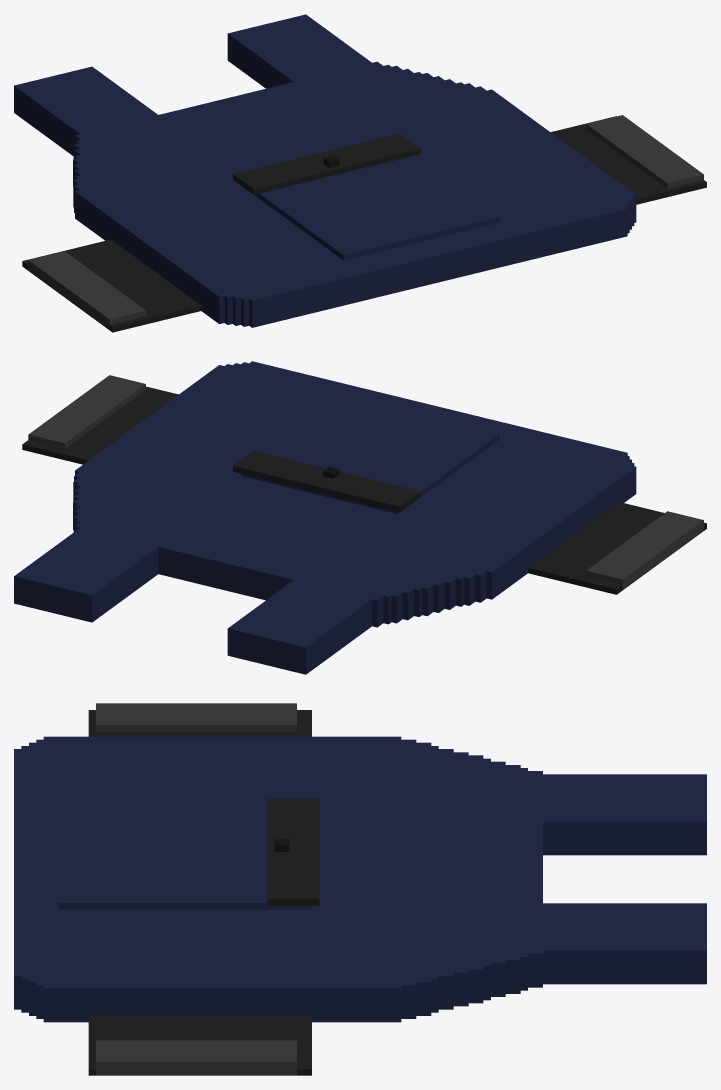
File: soft_3a_vest.glb
The picture shows the model from 3 angles, top to bottom: view 1: azimuth 30°, elevation 25°; view 2: azimuth 150°, elevation 25°; view 3: azimuth 270°, elevation 25°; orthographic projection. The views are drawn at different scales.
Visible parts, largest first — view 1: soft_3a_vest:compound; view 2: soft_3a_vest:compound; view 3: soft_3a_vest:compound.
Part boxes in pixels (bbox=[...]): soft_3a_vest:compound: bbox=[14, 14, 706, 332]; soft_3a_vest:compound: bbox=[14, 361, 706, 674]; soft_3a_vest:compound: bbox=[14, 703, 706, 1075].
Size of the model in its own units: 0.684 by 0.048 by 0.558.
